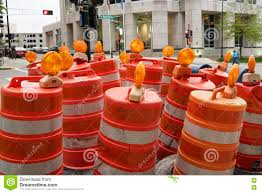barrel: (2, 77, 65, 177), (92, 89, 164, 174), (172, 92, 246, 173), (61, 74, 103, 169), (155, 77, 212, 147), (120, 62, 161, 124), (232, 82, 260, 172), (92, 58, 121, 91), (161, 57, 179, 96), (199, 67, 226, 91)
